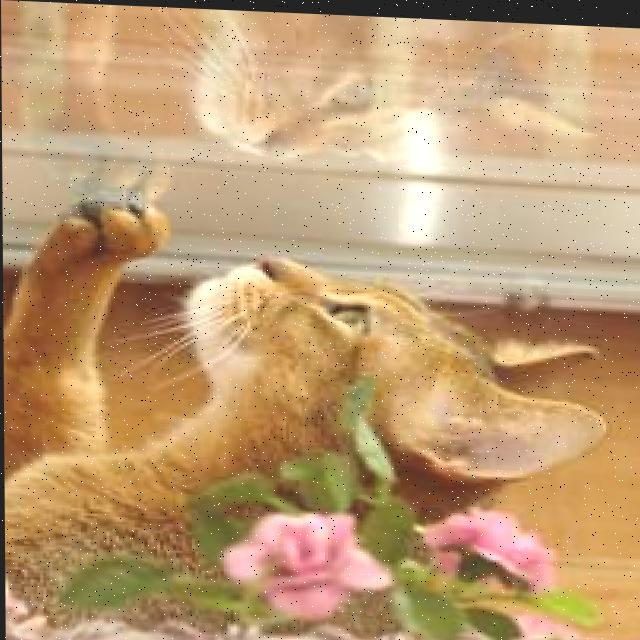Abyssinian: (1, 180, 616, 640)
